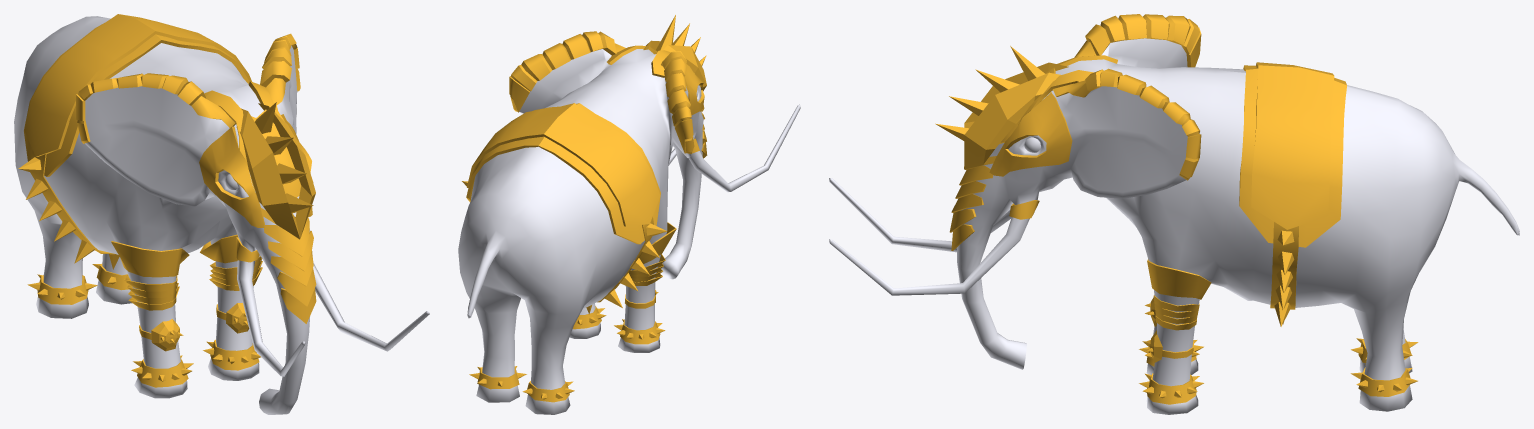
The model's file is Elephant (Texturing And Animation).fbx.
3 views of the same model, side by side, from view 1: azimuth 30°, elevation 25°; view 2: azimuth 150°, elevation 25°; view 3: azimuth 270°, elevation 25° (orthographic). The views are drawn at different scales.
Parts seen in each view (by area): view 1: Body_Elephant, Armor_Elephant; view 2: Body_Elephant, Armor_Elephant; view 3: Body_Elephant, Armor_Elephant.
Part boxes in pixels (box(x1,y1,x2,y2)): Body_Elephant: box(14, 16, 429, 414); Armor_Elephant: box(18, 14, 316, 387); Body_Elephant: box(458, 49, 800, 414); Armor_Elephant: box(462, 15, 707, 402); Body_Elephant: box(829, 38, 1519, 414); Armor_Elephant: box(935, 14, 1418, 404).
Bounding box in the file's own units: 14.74 × 19.01 × 34.72.
